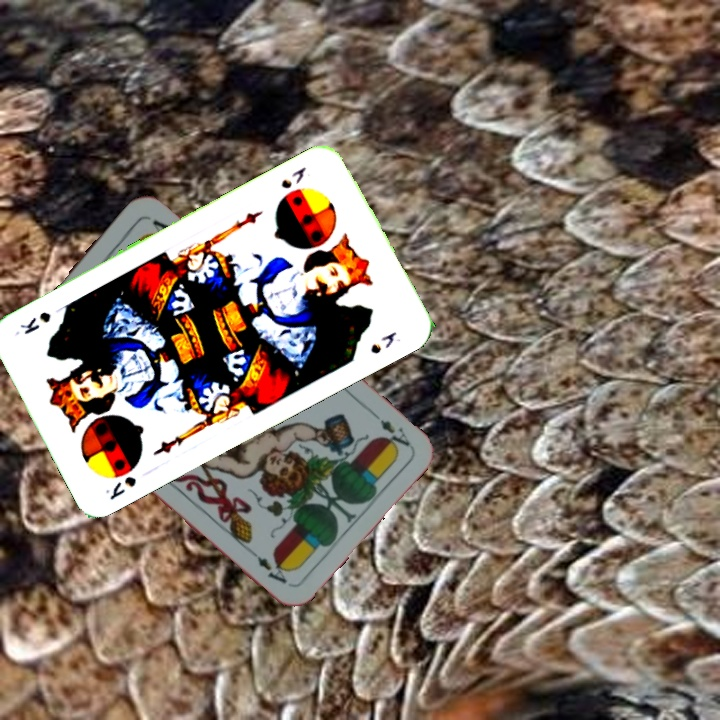EA: (365, 405, 413, 454)
SK: (100, 472, 139, 503), (276, 162, 309, 192)
